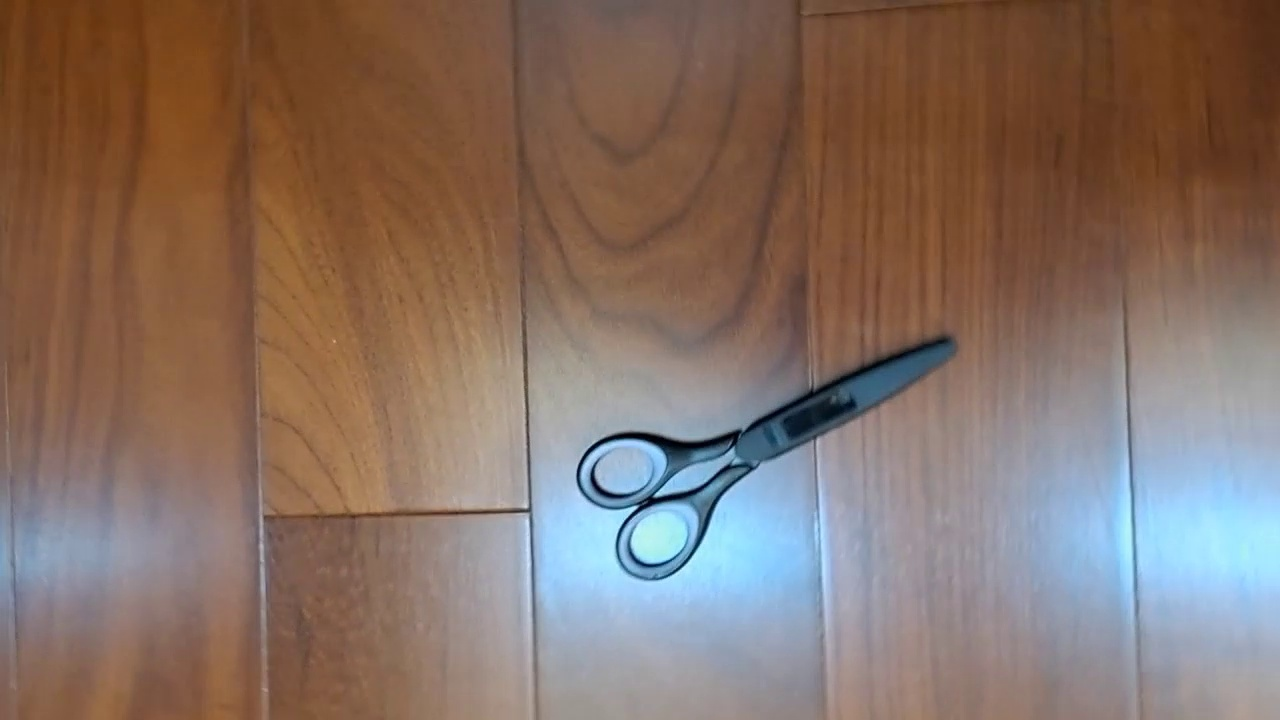scissors: (575, 332, 960, 581)
